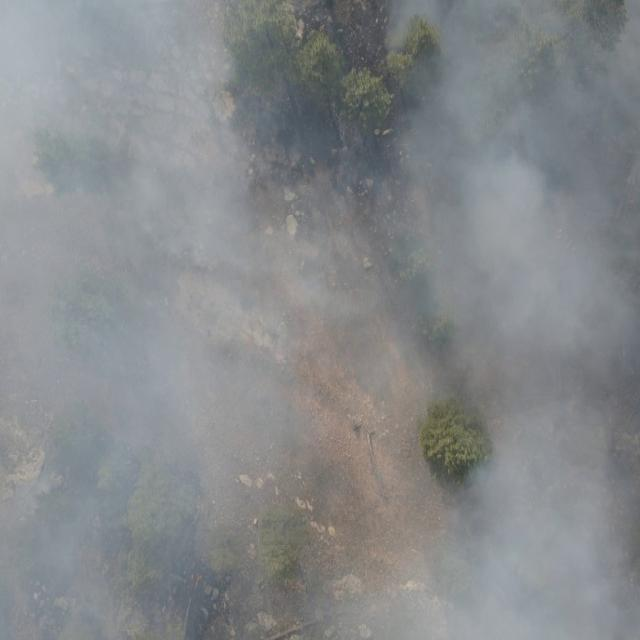fire: (189, 570, 205, 590)
smoke: (0, 0, 640, 640)
